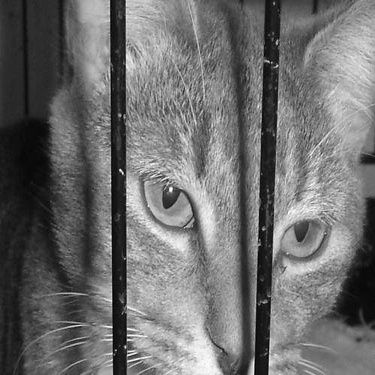cat: (15, 4, 369, 370)
